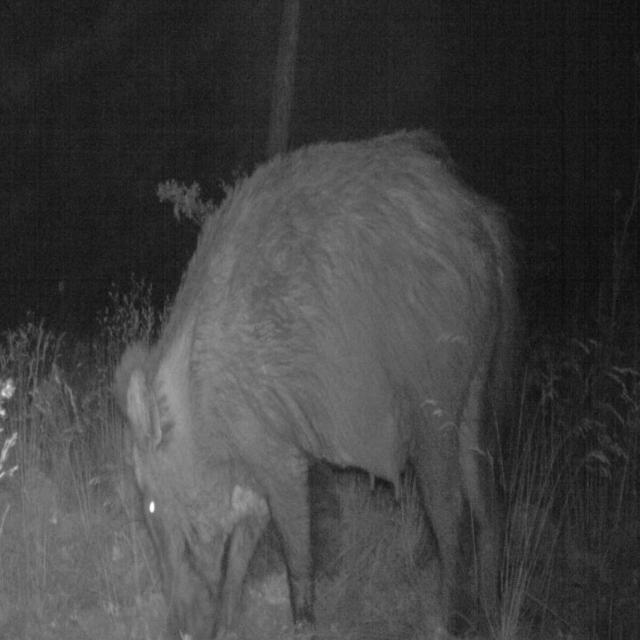pig: (76, 97, 539, 640)
